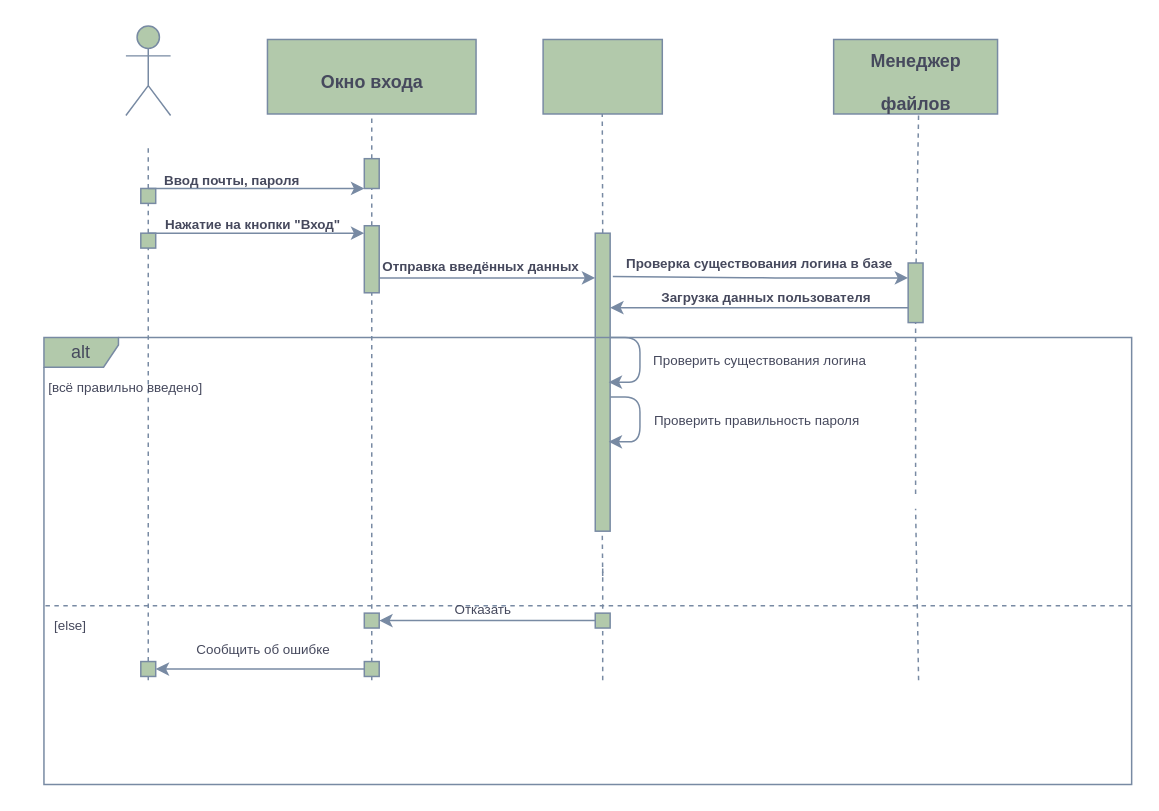
The diagram is 1159 pixels wide and 811 high, and some of its shapes have lost their labels. The centre of each missing label's shape, as x and y in pixels:
"Администратор" belongs at point 147,70.
"Менеджер окна входа" belongs at point 602,76.
